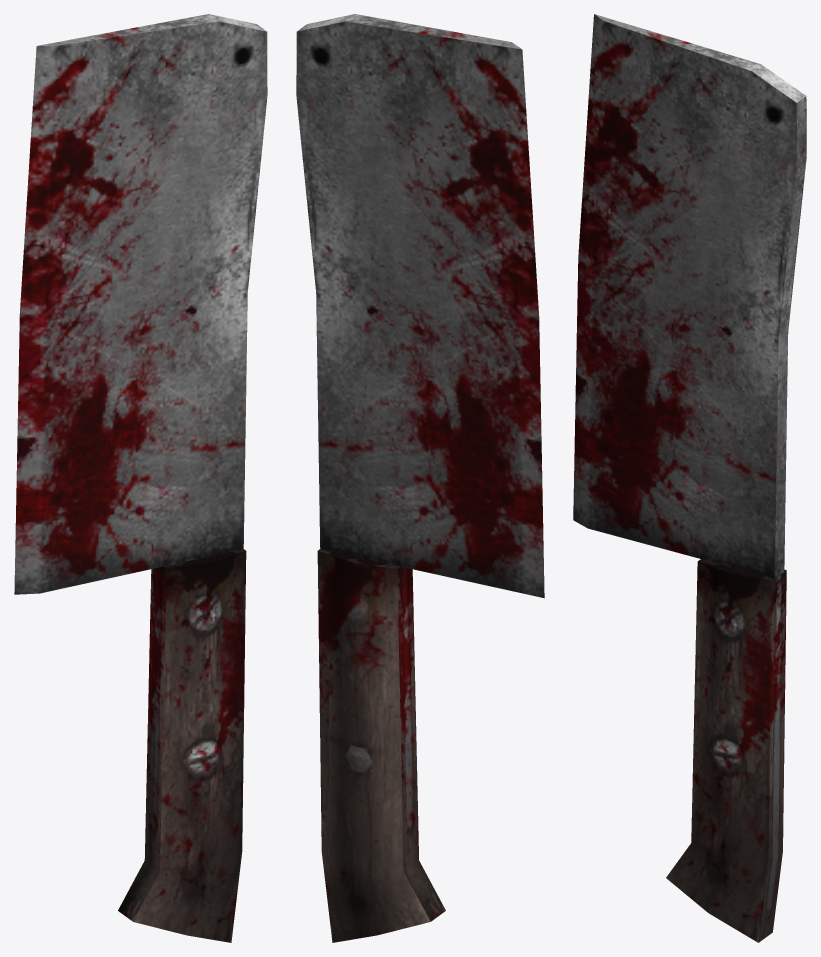
File: cleaver_blood.fbx
3 views of the same model, side by side, from view 1: azimuth 30°, elevation 25°; view 2: azimuth 150°, elevation 25°; view 3: azimuth 330°, elevation 25° (orthographic). The views are drawn at different scales.
Parts seen in each view (by area): view 1: cleaver_blood; view 2: cleaver_blood; view 3: cleaver_blood.
Part boxes in pixels (x1,y1,x2,y2): cleaver_blood: [14, 14, 267, 942]; cleaver_blood: [296, 14, 544, 942]; cleaver_blood: [573, 14, 806, 942].
Bounding box in the file's own units: 8.87 × 32.25 × 1.45.
Materials: 1 (1 with a texture image).
